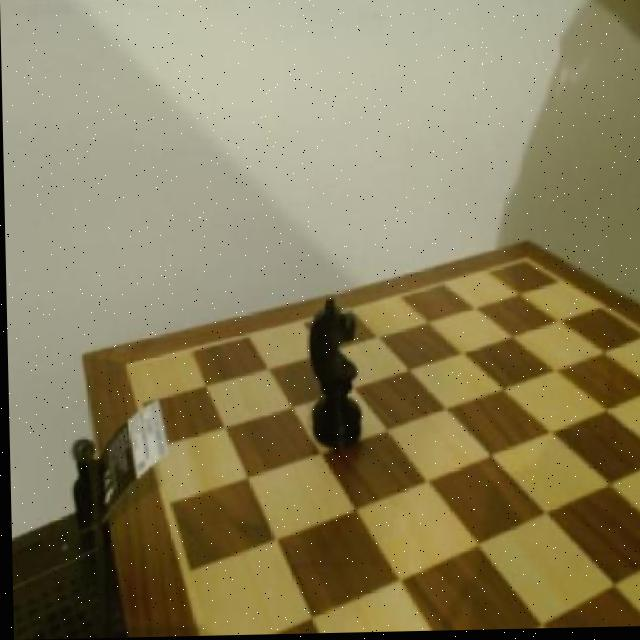black-king: (297, 292, 365, 454)
